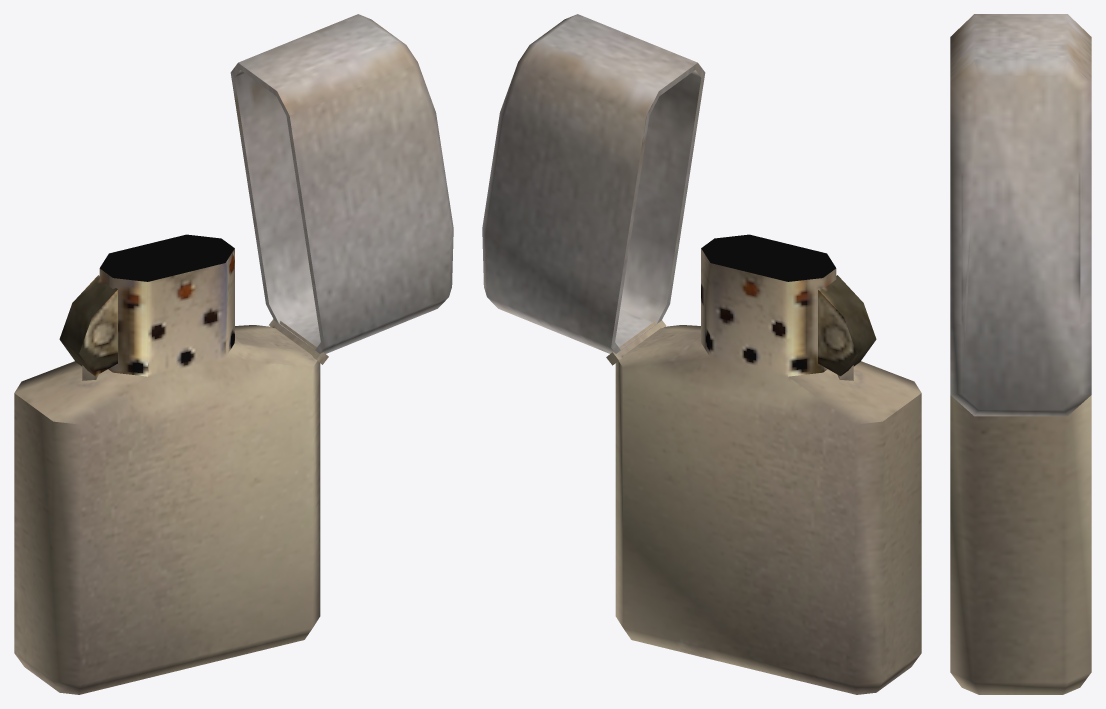
Rendered from Lighter.fbx.
3 renders of one model, left to right at view 1: azimuth 30°, elevation 25°; view 2: azimuth 150°, elevation 25°; view 3: azimuth 270°, elevation 25°, orthographic. The views are drawn at different scales.
Parts seen in each view (by area): view 1: Lighter; view 2: Lighter; view 3: Lighter.
Part boxes in pixels (x1,y1,x2,y2): Lighter: (14,14,453,694); Lighter: (482,14,921,694); Lighter: (950,14,1091,694).
Size of the model in its own units: 5.6 by 7.71 by 1.45.
Materials: 1 (1 with a texture image).
